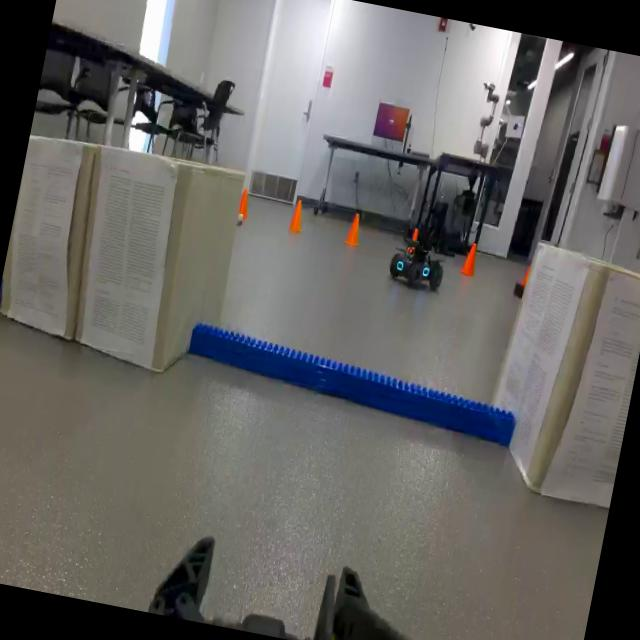cone: (458, 239, 484, 280), (342, 208, 366, 252), (284, 196, 308, 238), (232, 182, 254, 226)
river: (187, 320, 528, 456)
storage cube: (50, 132, 242, 390), (472, 236, 640, 520), (0, 127, 109, 345)
